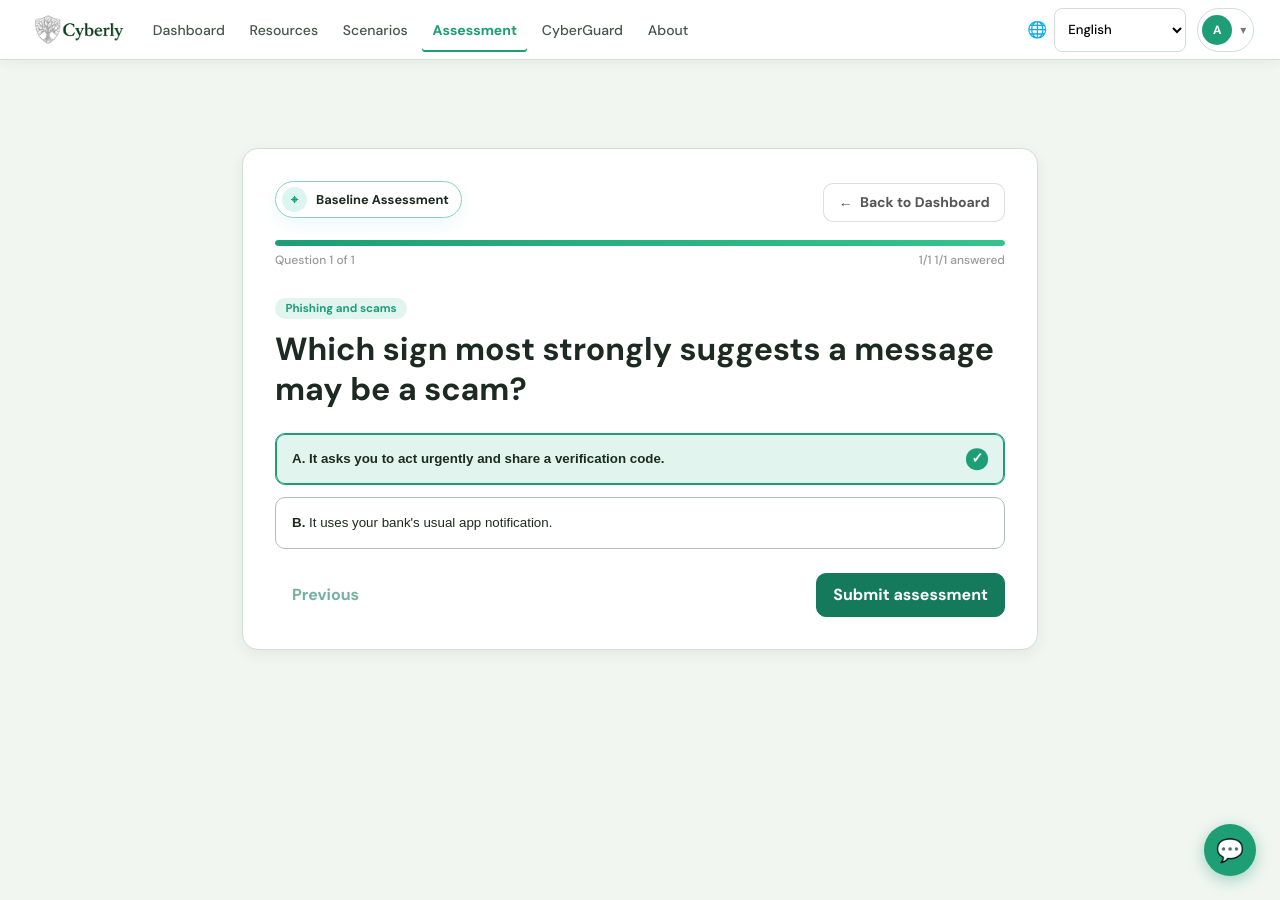
Scenario: Assessment final visual migration › keeps submission behind confirmation and submits the unchanged payload once confirmed
Click the button "Submit assessment". click: [911, 595]
box: [816,573,1005,617]
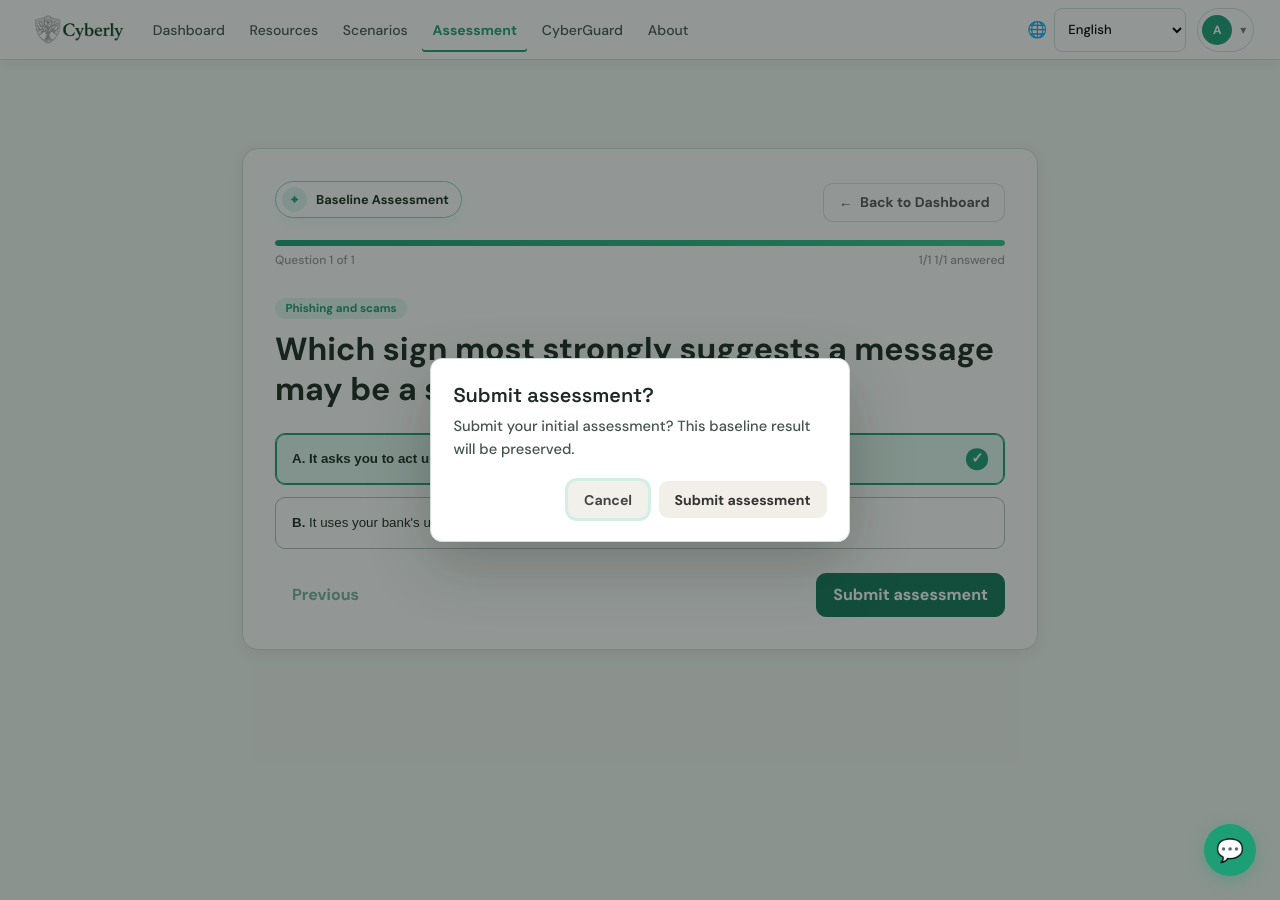
expect the text "Submit your initial assessment? This baseline result will be preserved." is shown: met, box [453,415,827,462]
Click the button "Cancel". click: [608, 500]
box: [568,481,648,518]
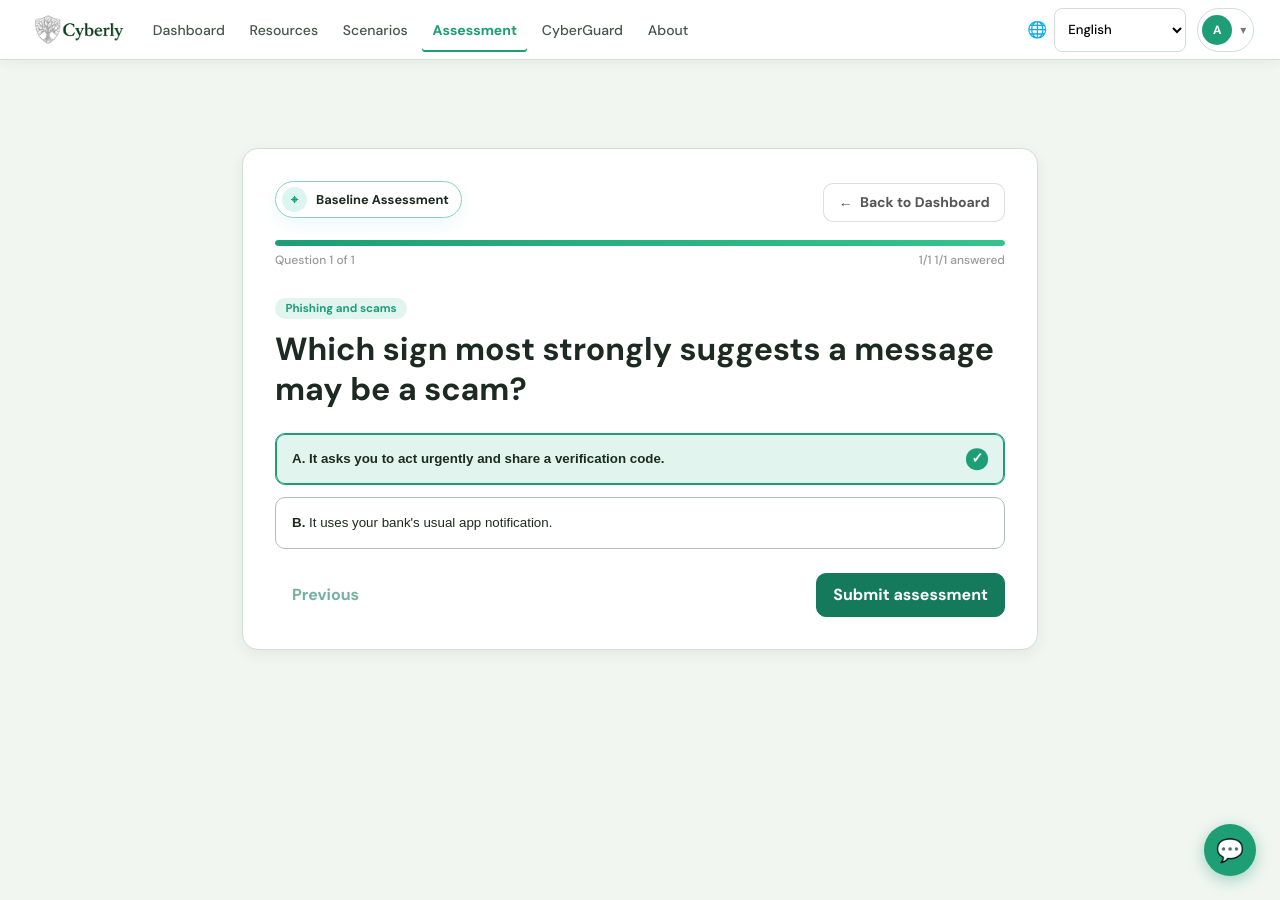
Click the button "Submit assessment". click: [911, 595]
box: [816,573,1005,617]
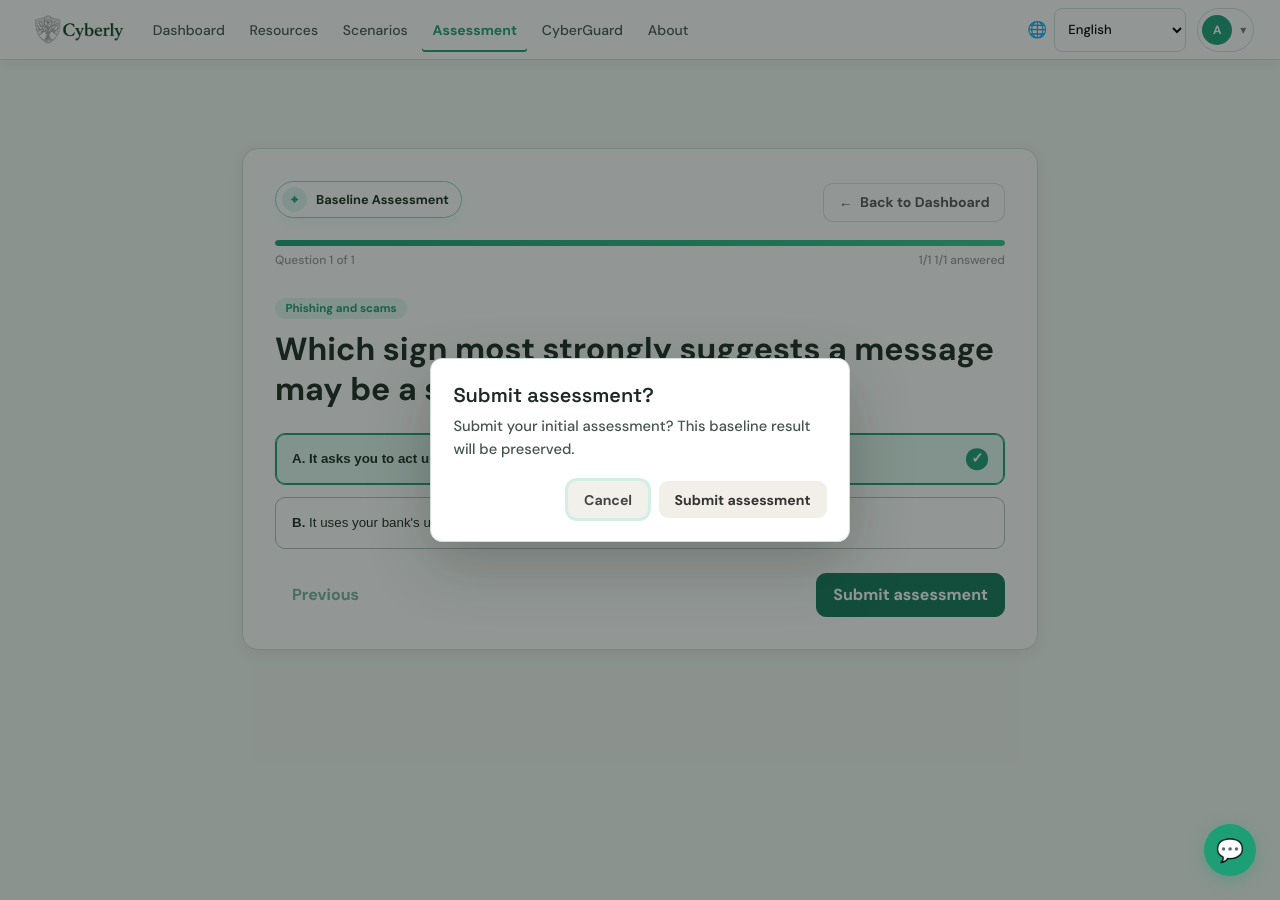
Click the button "Submit assessment". click: [743, 500]
box: [658,481,827,518]
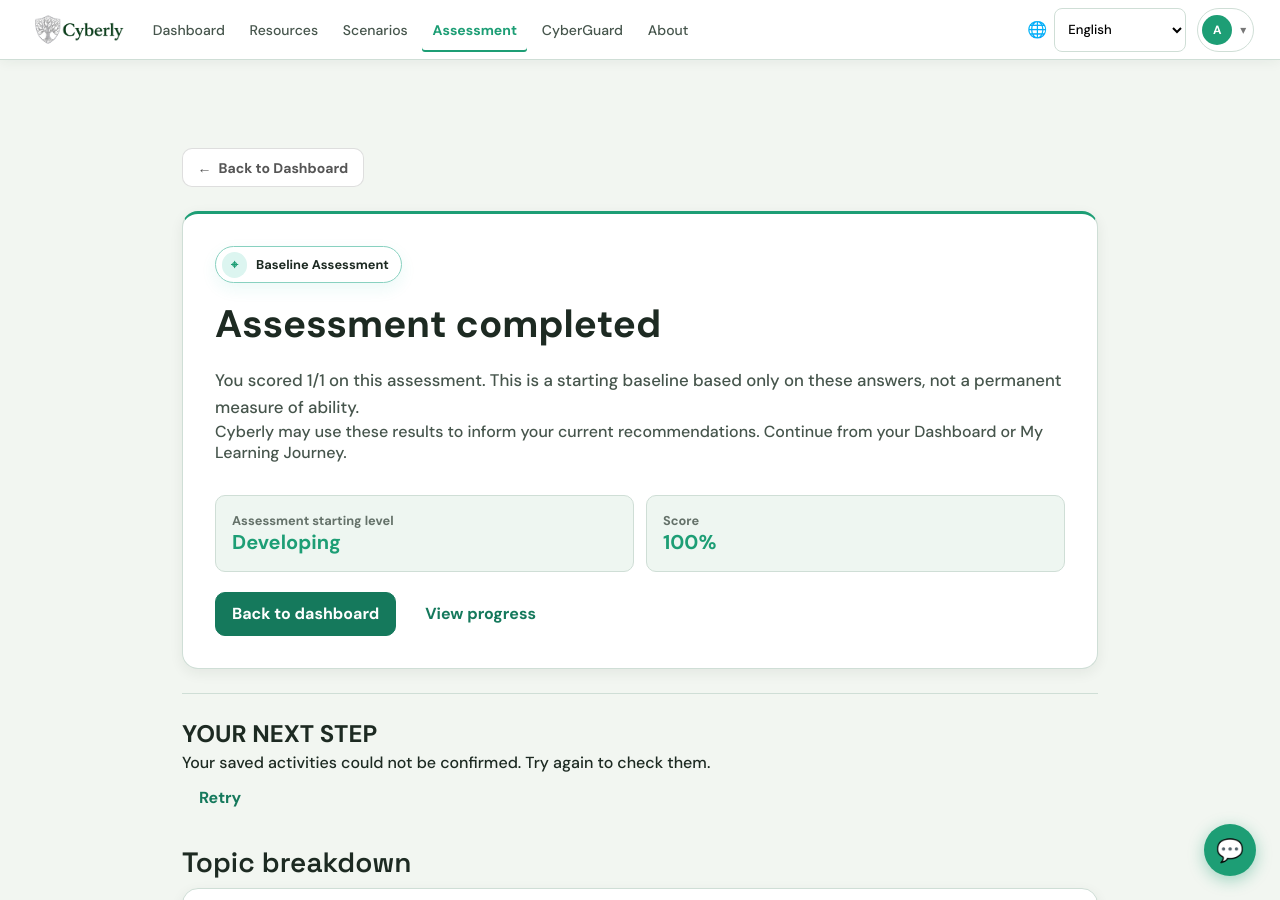
expect the heading "Assessment completed" is shown: met, box [215,299,661,349]
